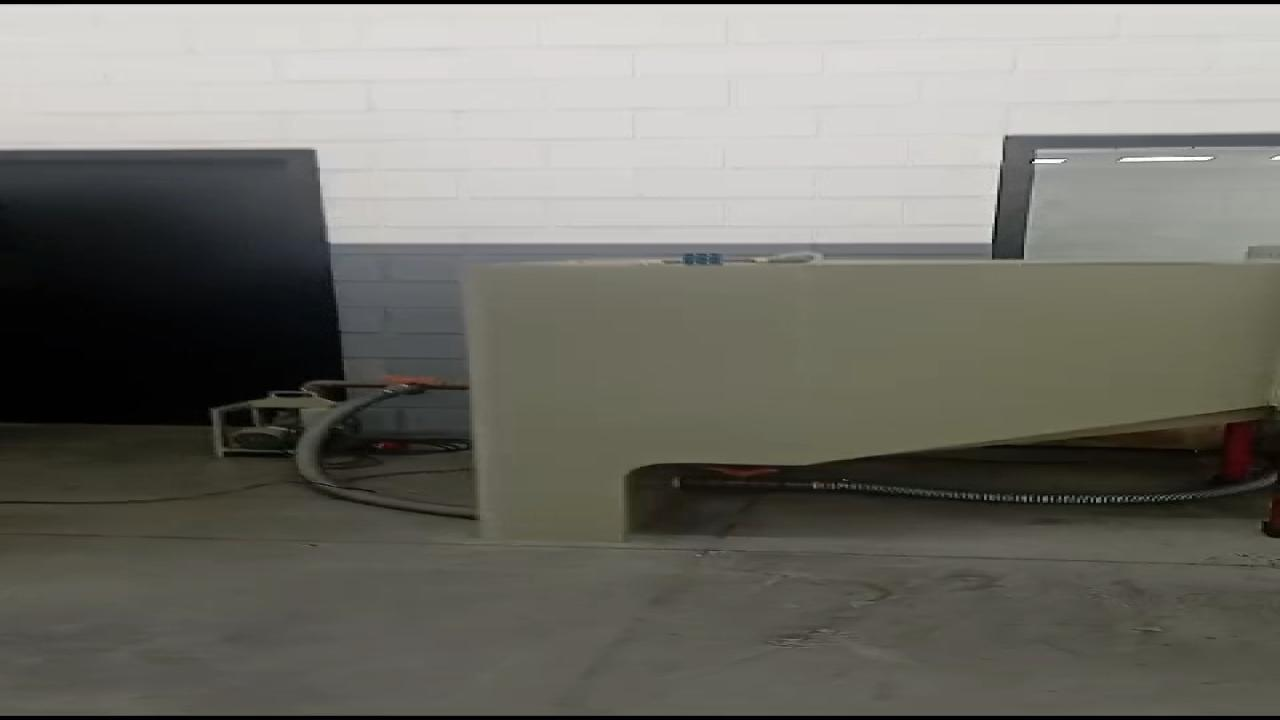Cube: (670, 248, 737, 269)
